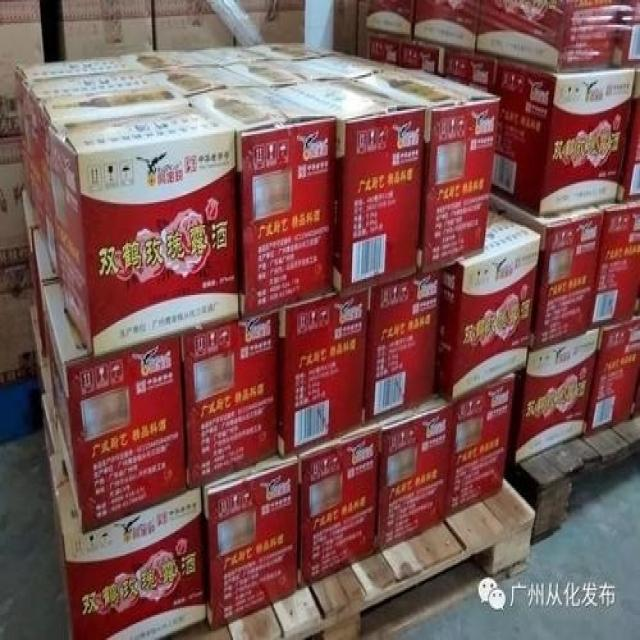box: (49, 100, 239, 354), (42, 279, 188, 536), (269, 79, 426, 299), (28, 70, 189, 281), (192, 84, 335, 318), (444, 45, 635, 216), (348, 68, 502, 275), (51, 451, 206, 640), (17, 52, 147, 209), (436, 211, 540, 404), (489, 191, 603, 354), (179, 311, 280, 493), (200, 454, 300, 633), (278, 290, 370, 458), (297, 425, 379, 586), (361, 270, 443, 429), (376, 390, 451, 556), (476, 0, 640, 73), (515, 329, 600, 463), (442, 375, 516, 522), (589, 198, 640, 334), (588, 318, 640, 434), (20, 189, 47, 356), (146, 68, 269, 100), (369, 27, 447, 75), (413, 0, 483, 50), (220, 57, 347, 84), (285, 54, 411, 79), (618, 66, 640, 204), (200, 45, 284, 68), (367, 0, 416, 38), (127, 50, 218, 70), (33, 229, 60, 284)
